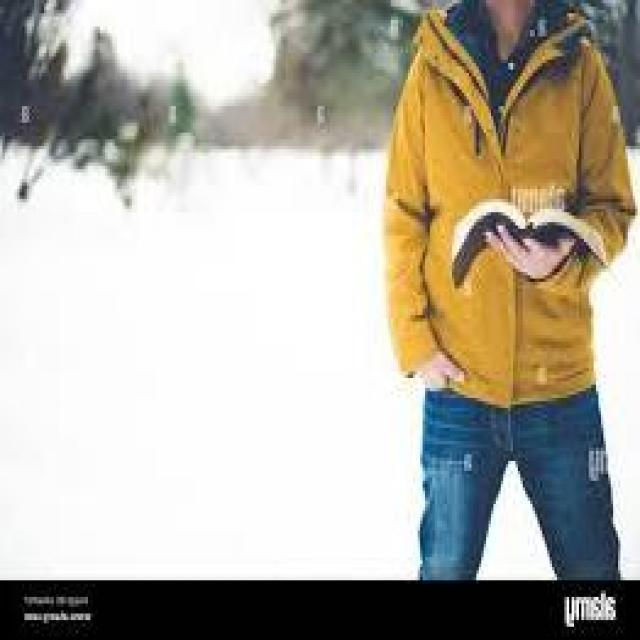Reflective-Jacket: (359, 3, 640, 404)
